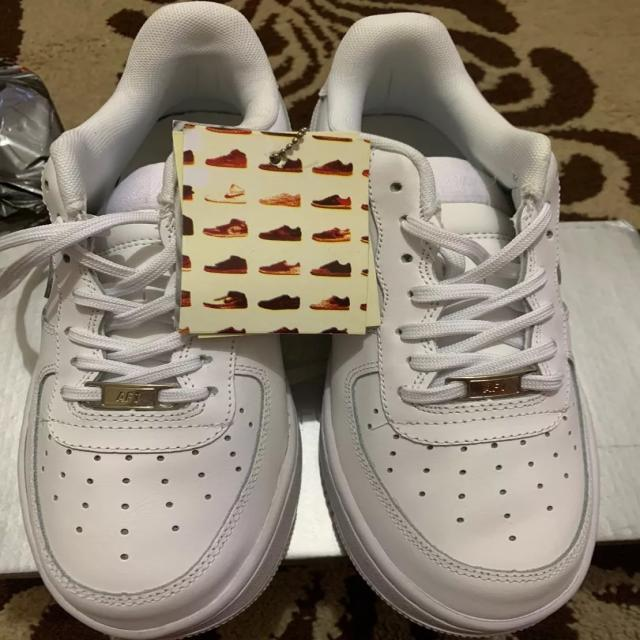nike fake air force: (311, 11, 622, 640), (22, 3, 308, 640)
